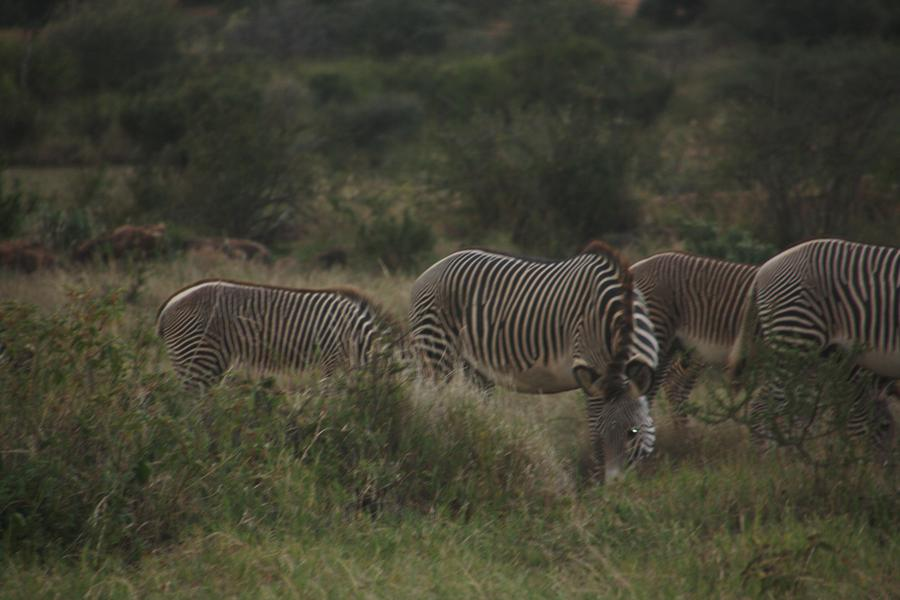zebra_grevys: (156, 267, 374, 391)
